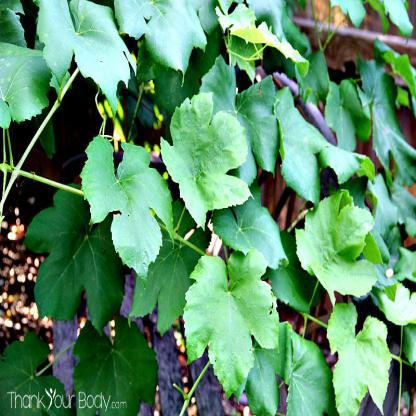grape leaf black rot: (81, 130, 176, 286), (26, 188, 122, 330), (158, 91, 252, 234), (34, 1, 133, 123), (290, 191, 376, 302), (322, 296, 397, 416), (212, 179, 288, 271)
